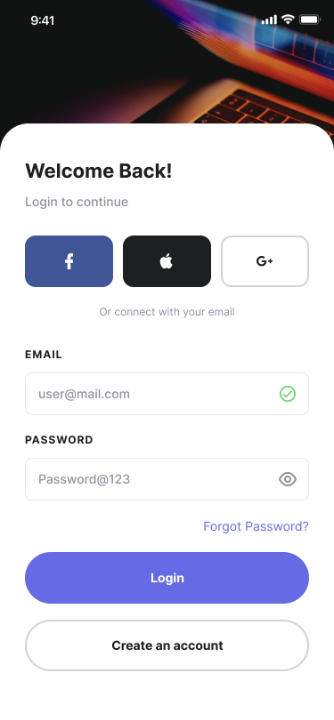Input: (23, 455, 312, 505), (23, 369, 311, 418)
